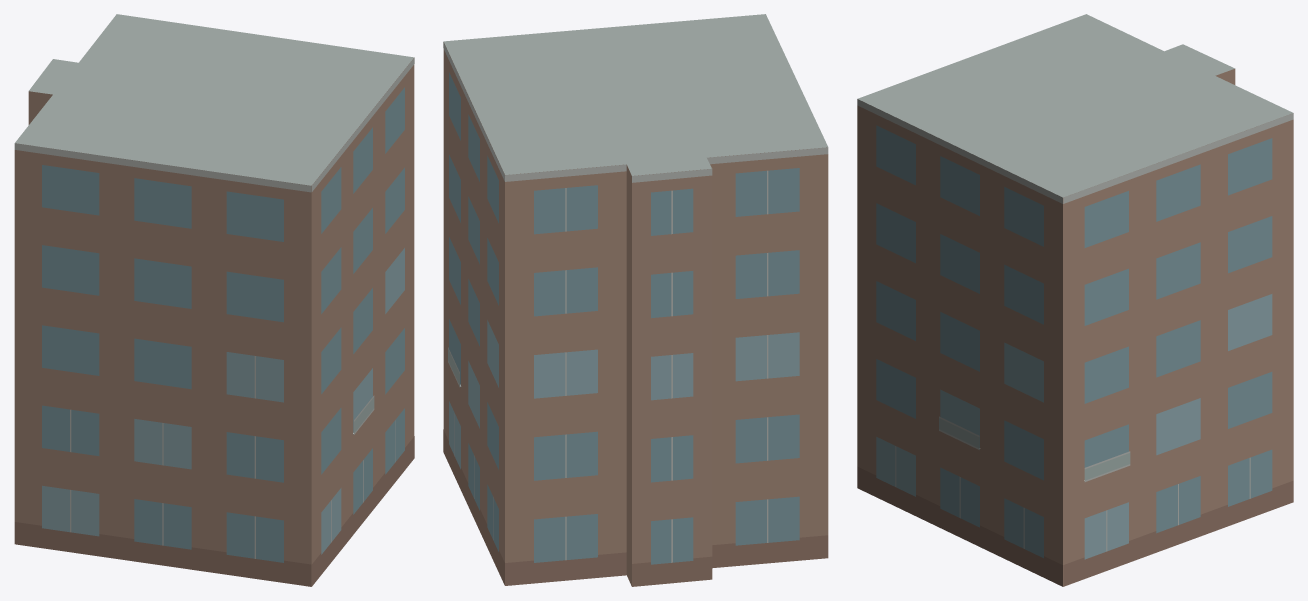
File: survey-upis-32850317.glb
The picture shows the model from 3 angles, left to right: view 1: azimuth 30°, elevation 25°; view 2: azimuth 150°, elevation 25°; view 3: azimuth 270°, elevation 25°; orthographic projection. The views are drawn at different scales.
Visible parts, largest first — view 1: survey-upis-32850317.tmp; view 2: survey-upis-32850317.tmp; view 3: survey-upis-32850317.tmp.
Part boxes in pixels (box(x1,y1,x2,y2)): survey-upis-32850317.tmp: box(14, 14, 414, 586); survey-upis-32850317.tmp: box(443, 14, 828, 586); survey-upis-32850317.tmp: box(857, 14, 1293, 586).
Bounding box in the file's own units: 14.78 × 14.6 × 14.84.
